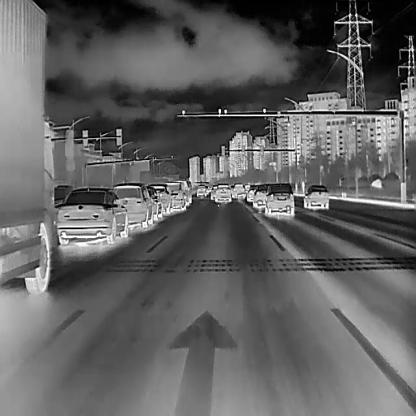car: (55, 186, 129, 245), (113, 182, 153, 228), (264, 181, 294, 215), (147, 182, 171, 214), (302, 184, 329, 208), (164, 180, 185, 210), (144, 185, 162, 220), (252, 182, 269, 210), (176, 179, 192, 206), (214, 183, 231, 201), (231, 183, 244, 198), (245, 187, 256, 202), (196, 183, 204, 195)
